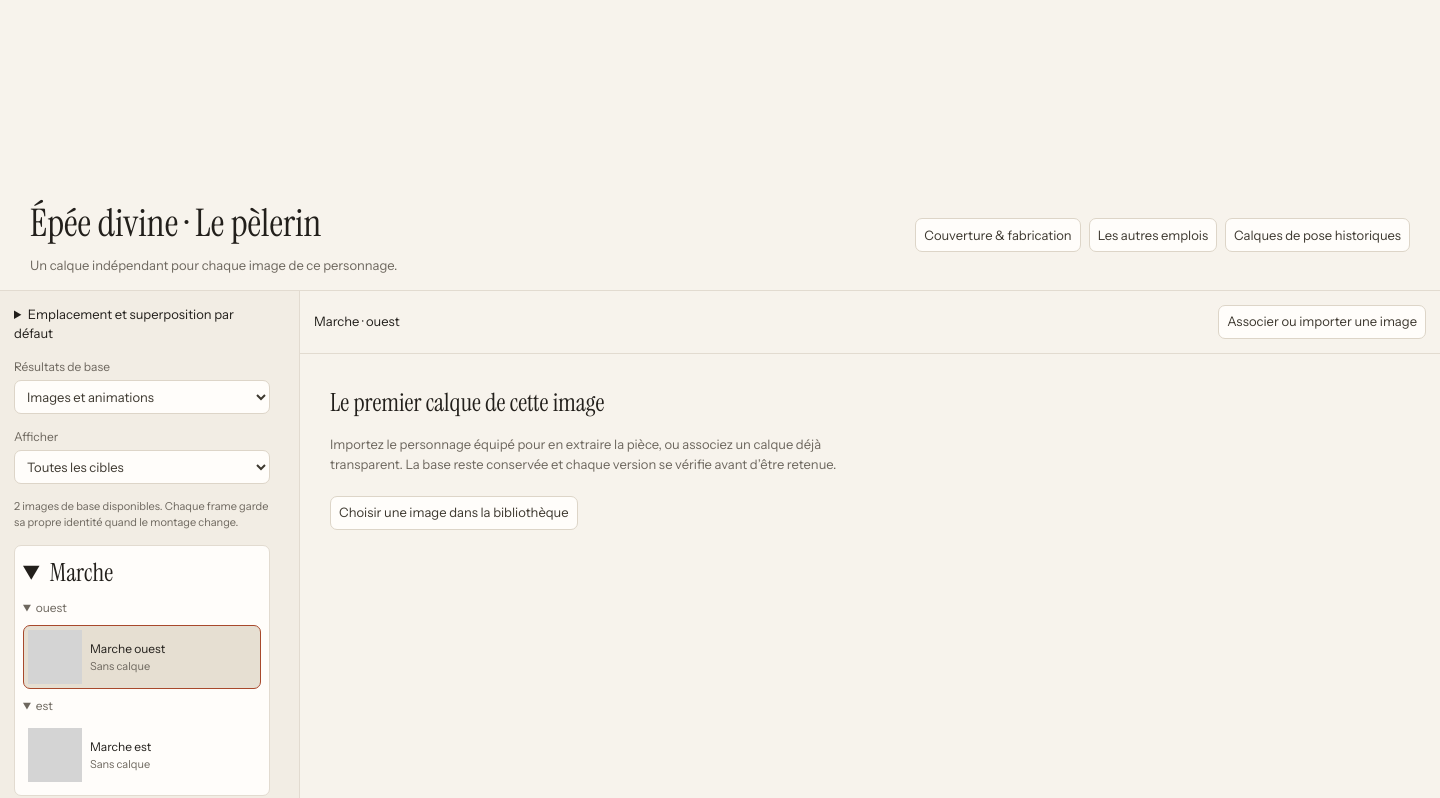
it: choisie depuis une autre pose, l'image équipée va d'office à celle que sa génération nomme
(page scrolled)
Click the button "Choisir une image dans la bibliothèque".
click(454, 513)  # box [330,496,578,530]
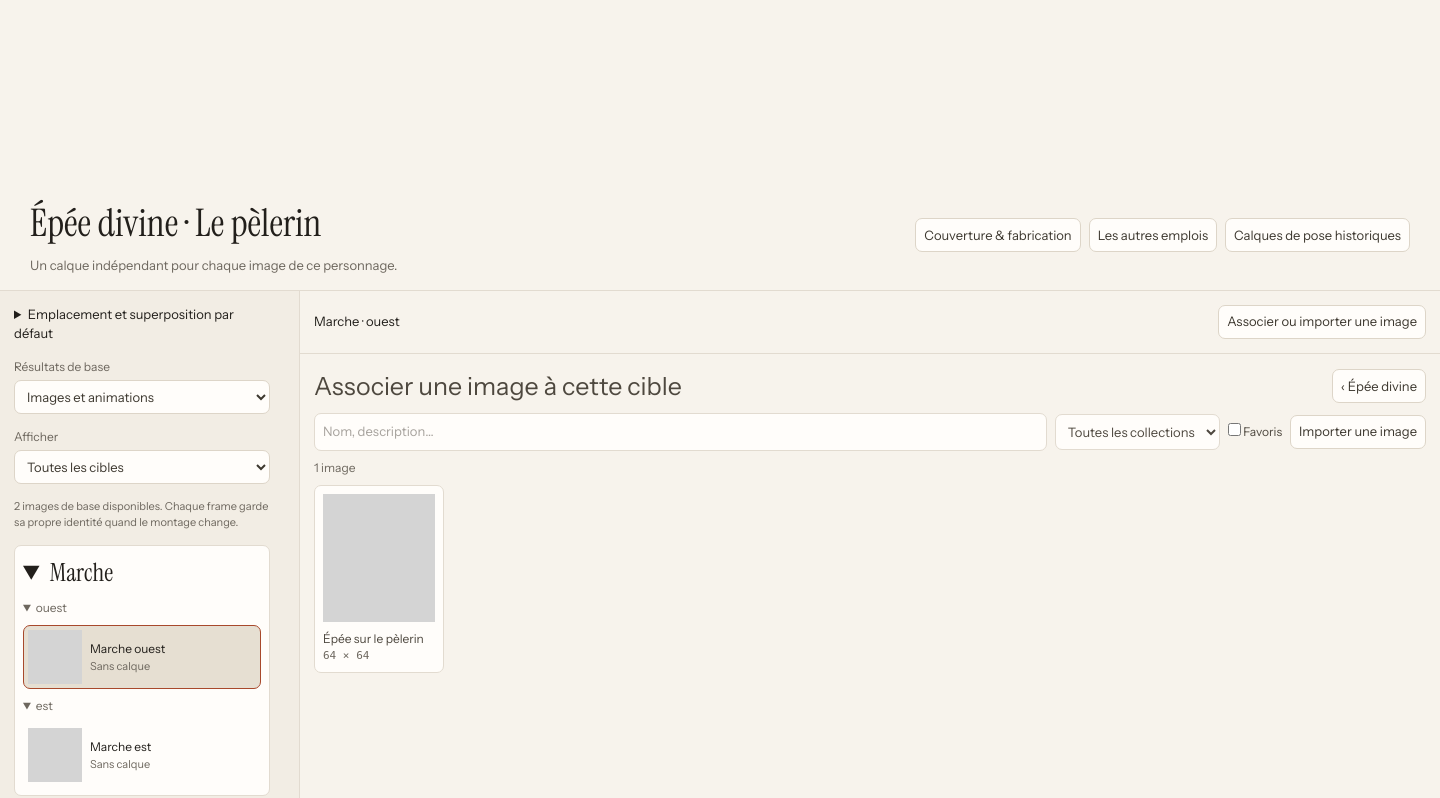
Click the button with aria-label "Choisir Épée sur le pèlerin".
click(379, 579)  # box [314,484,444,673]
(page scrolled)
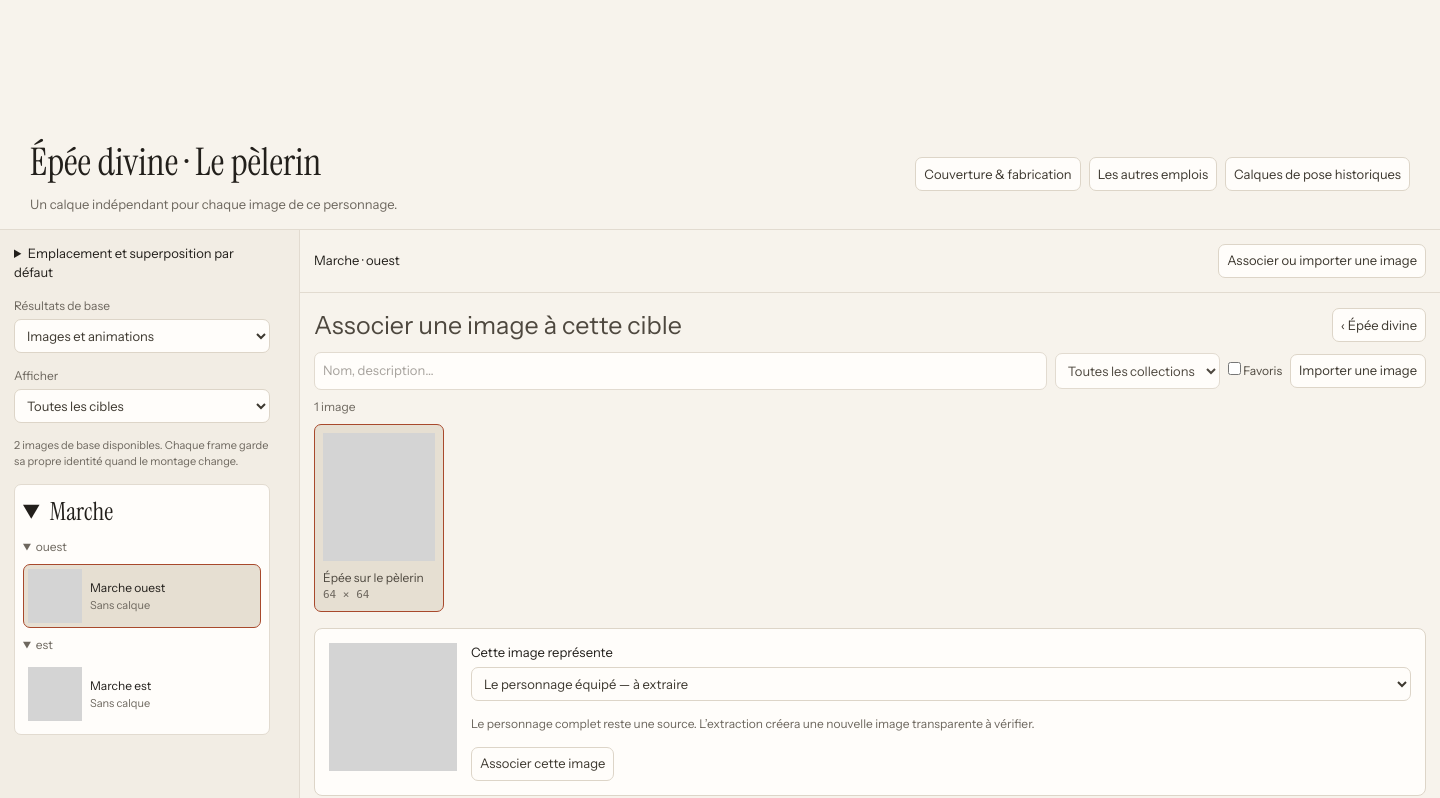
Click the button "Associer cette image".
click(543, 764)  # box [471,746,614,780]
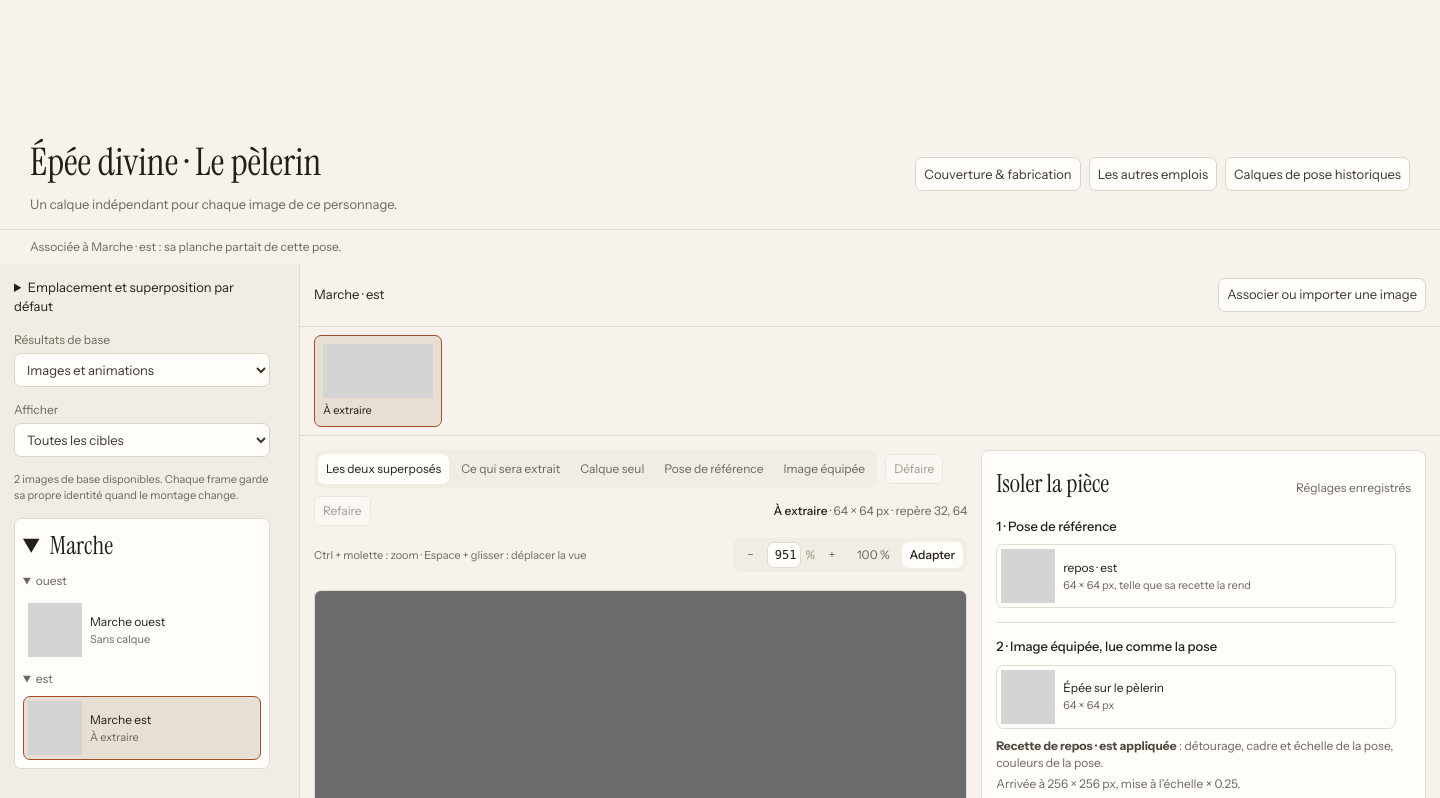
Result: the text "Associée à Marche · est : sa planche partait de cette pose." is shown at [30,238,341,254]
